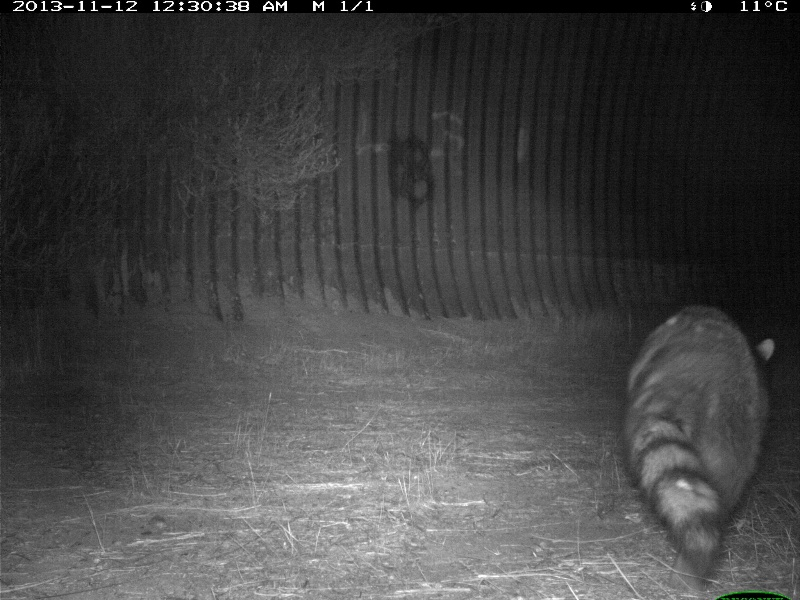raccoon: (620, 297, 778, 584)
